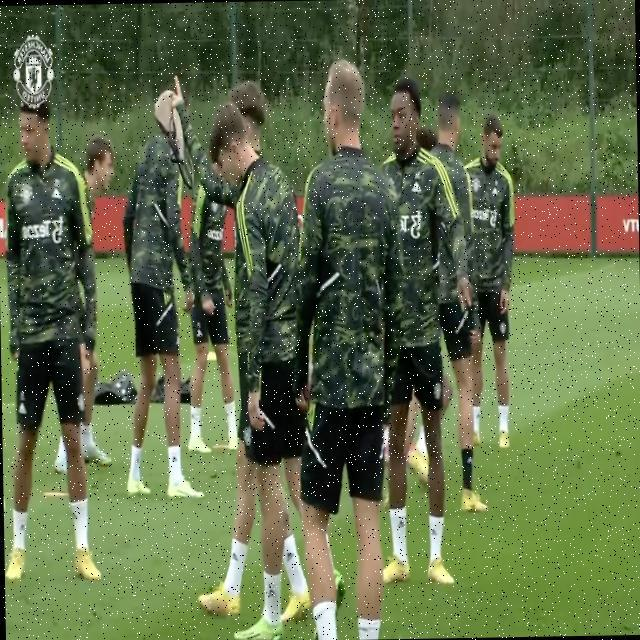Adidas: (410, 179, 422, 197), (266, 584, 277, 598), (284, 547, 294, 561), (396, 516, 406, 530), (52, 187, 62, 201), (18, 400, 26, 413)
